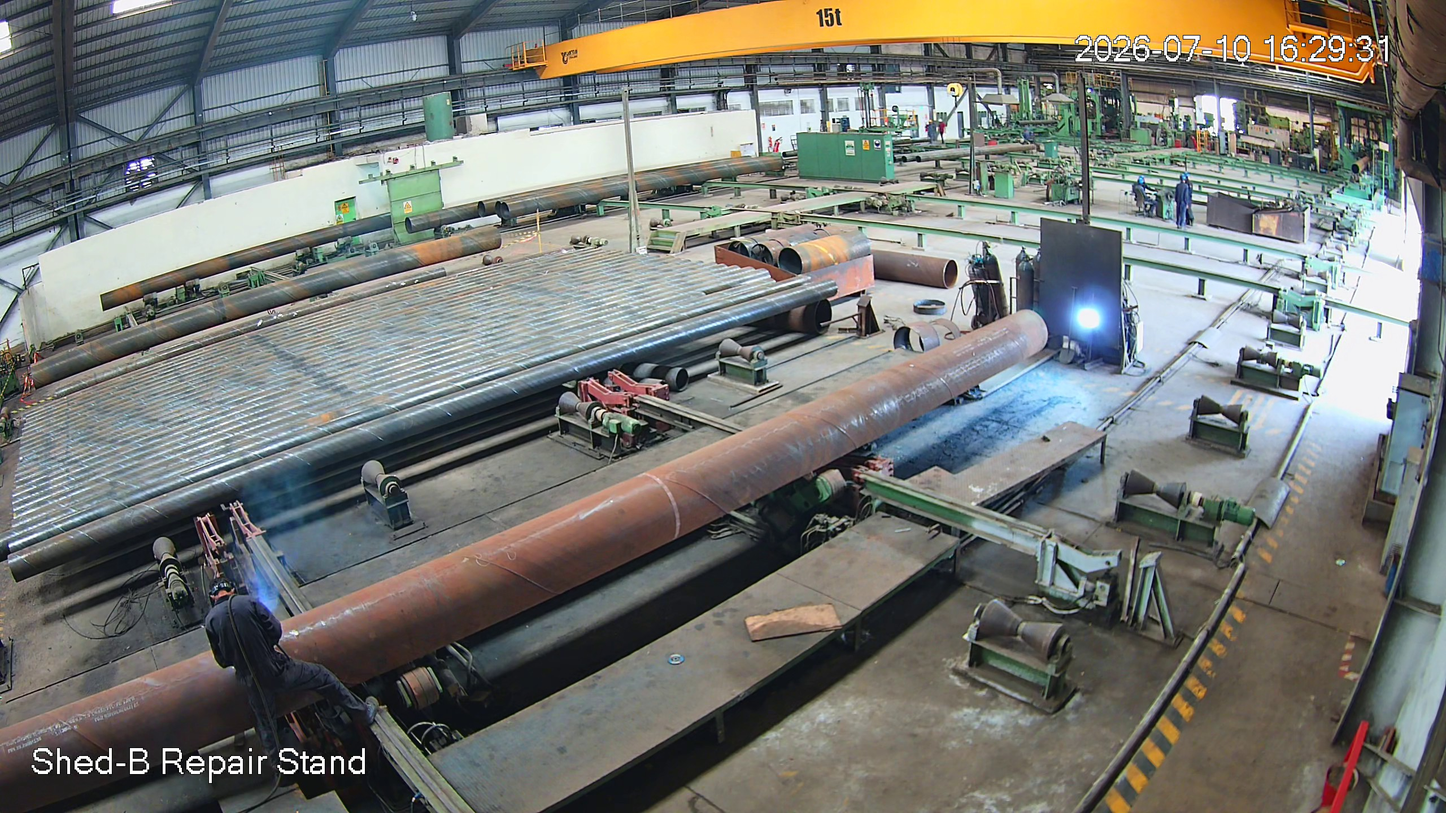Person: (196, 570, 376, 813)
